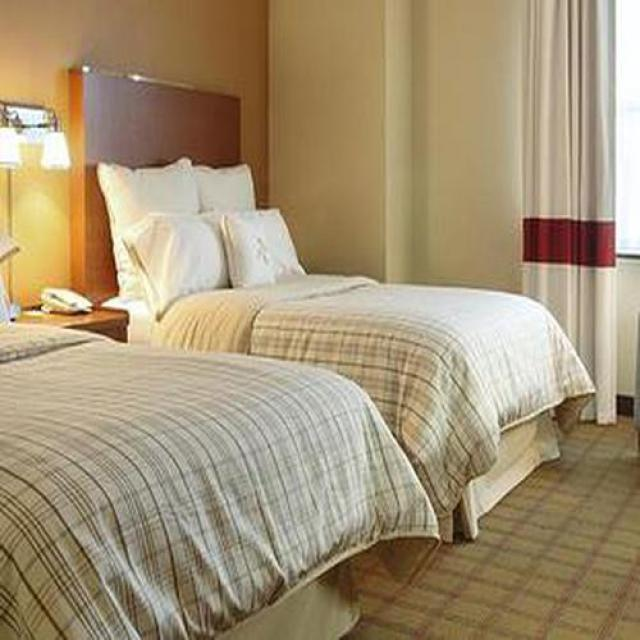bed: (96, 157, 596, 536)
